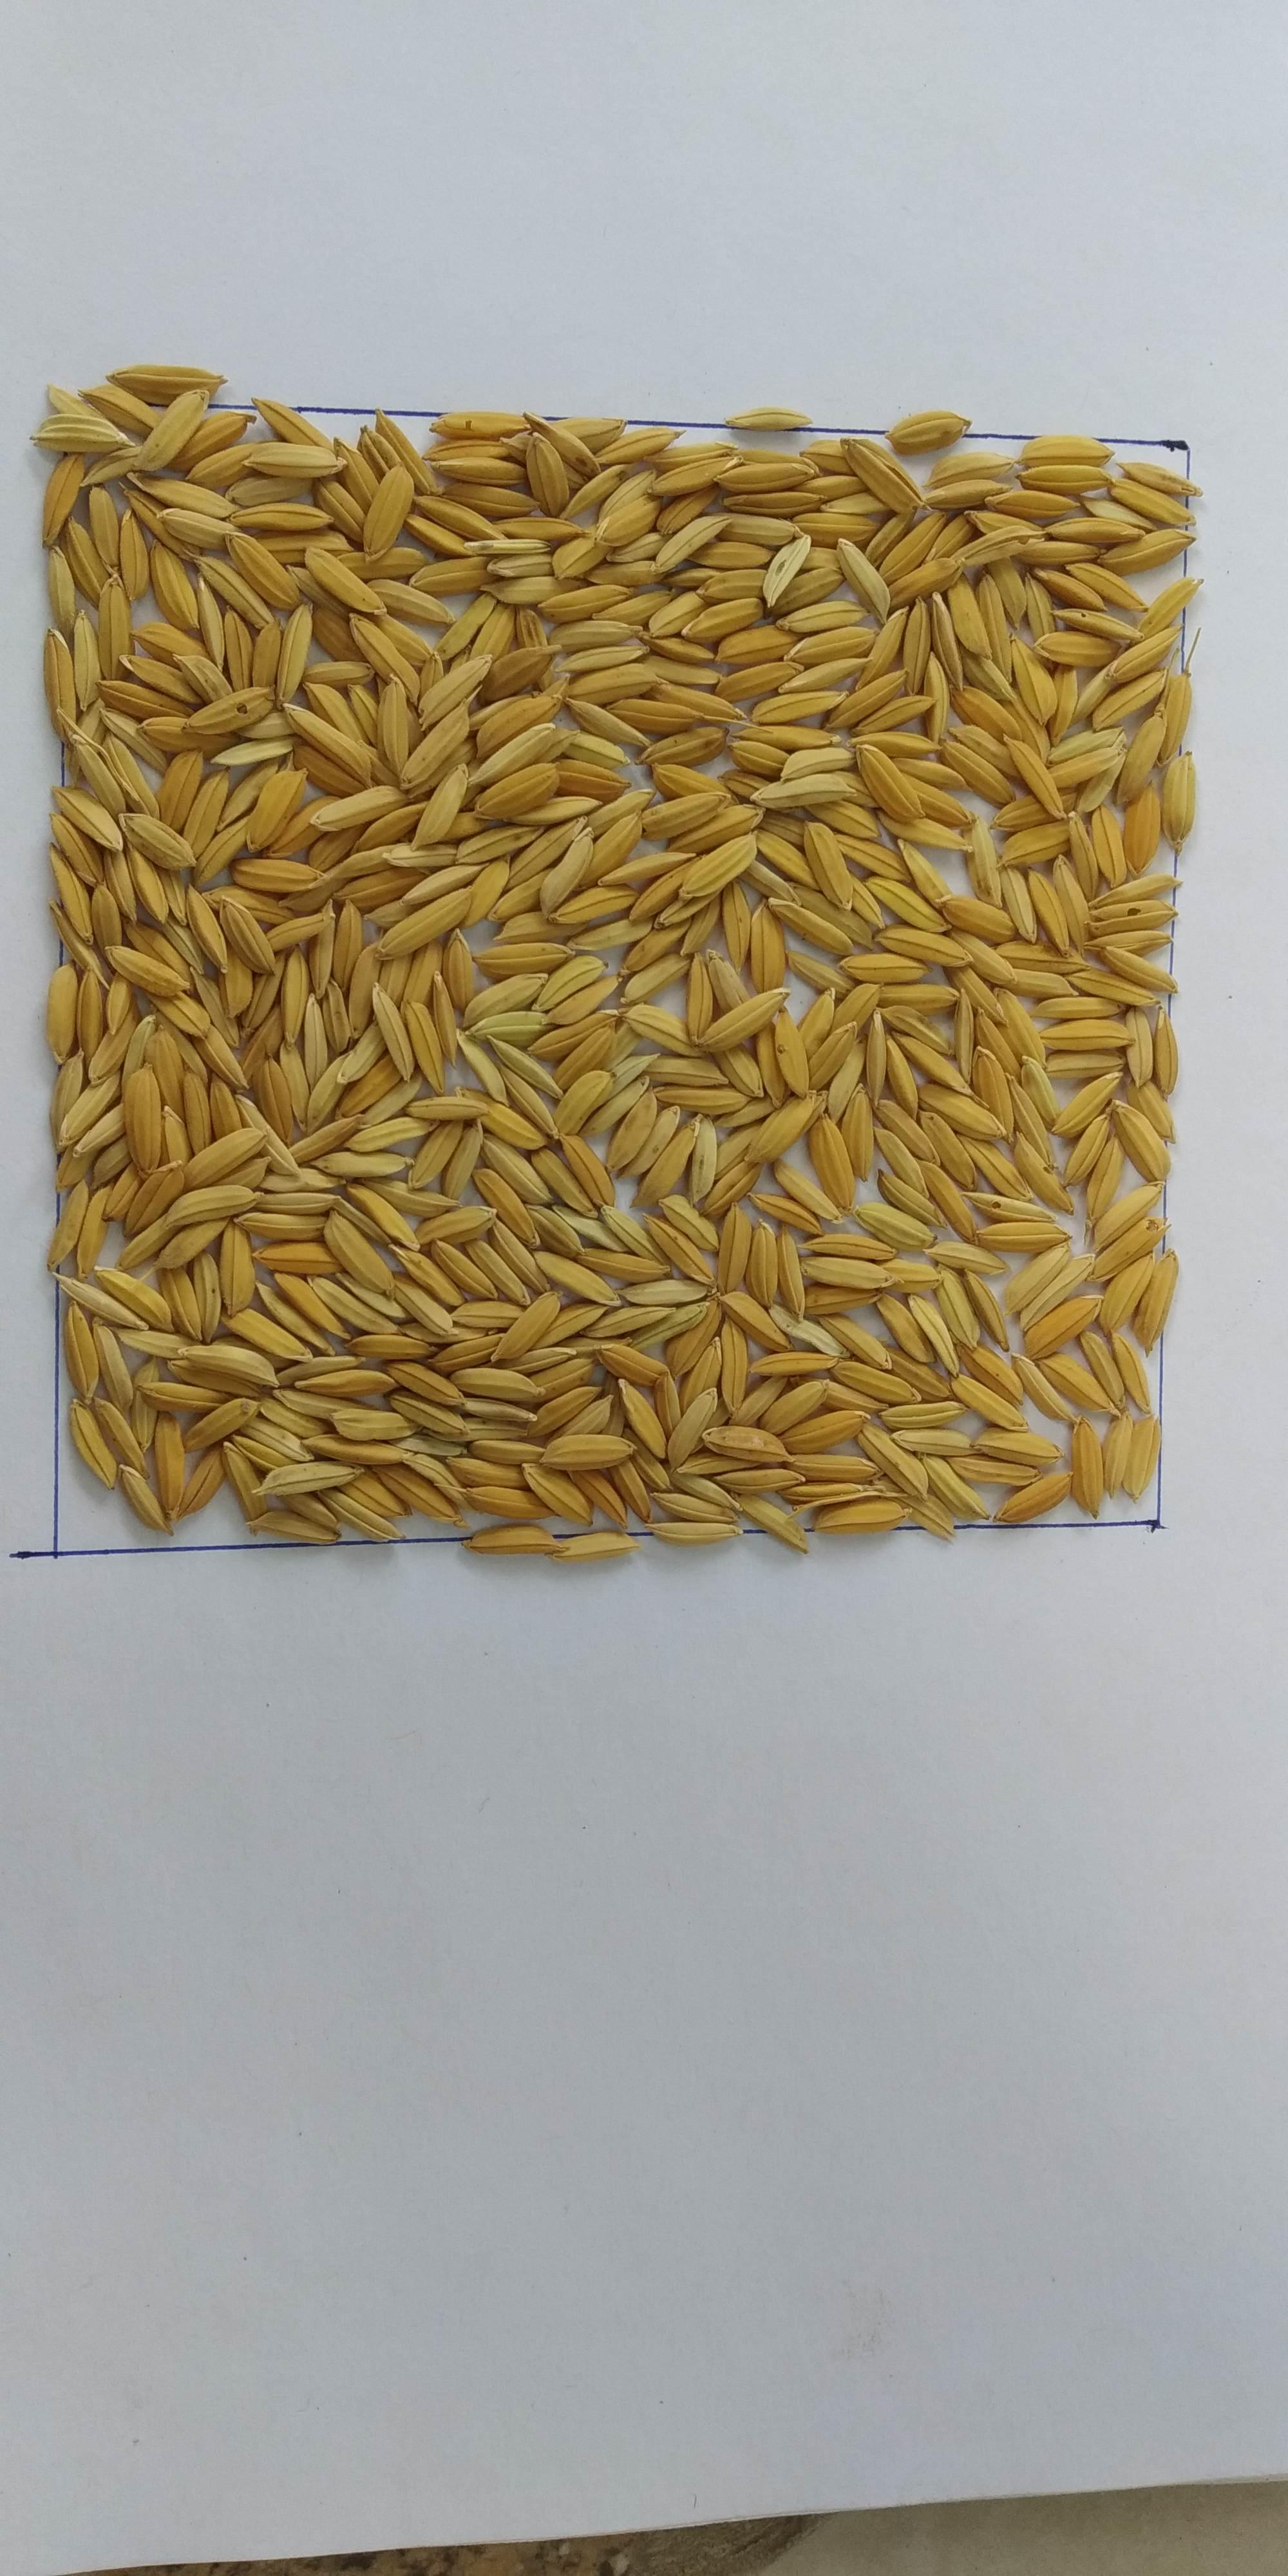pure: (95, 476, 1120, 1480)
